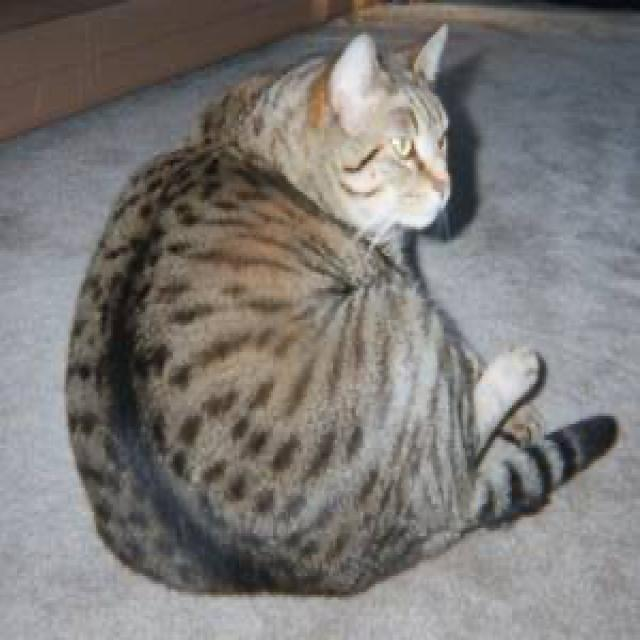cat: (305, 19, 448, 224)
